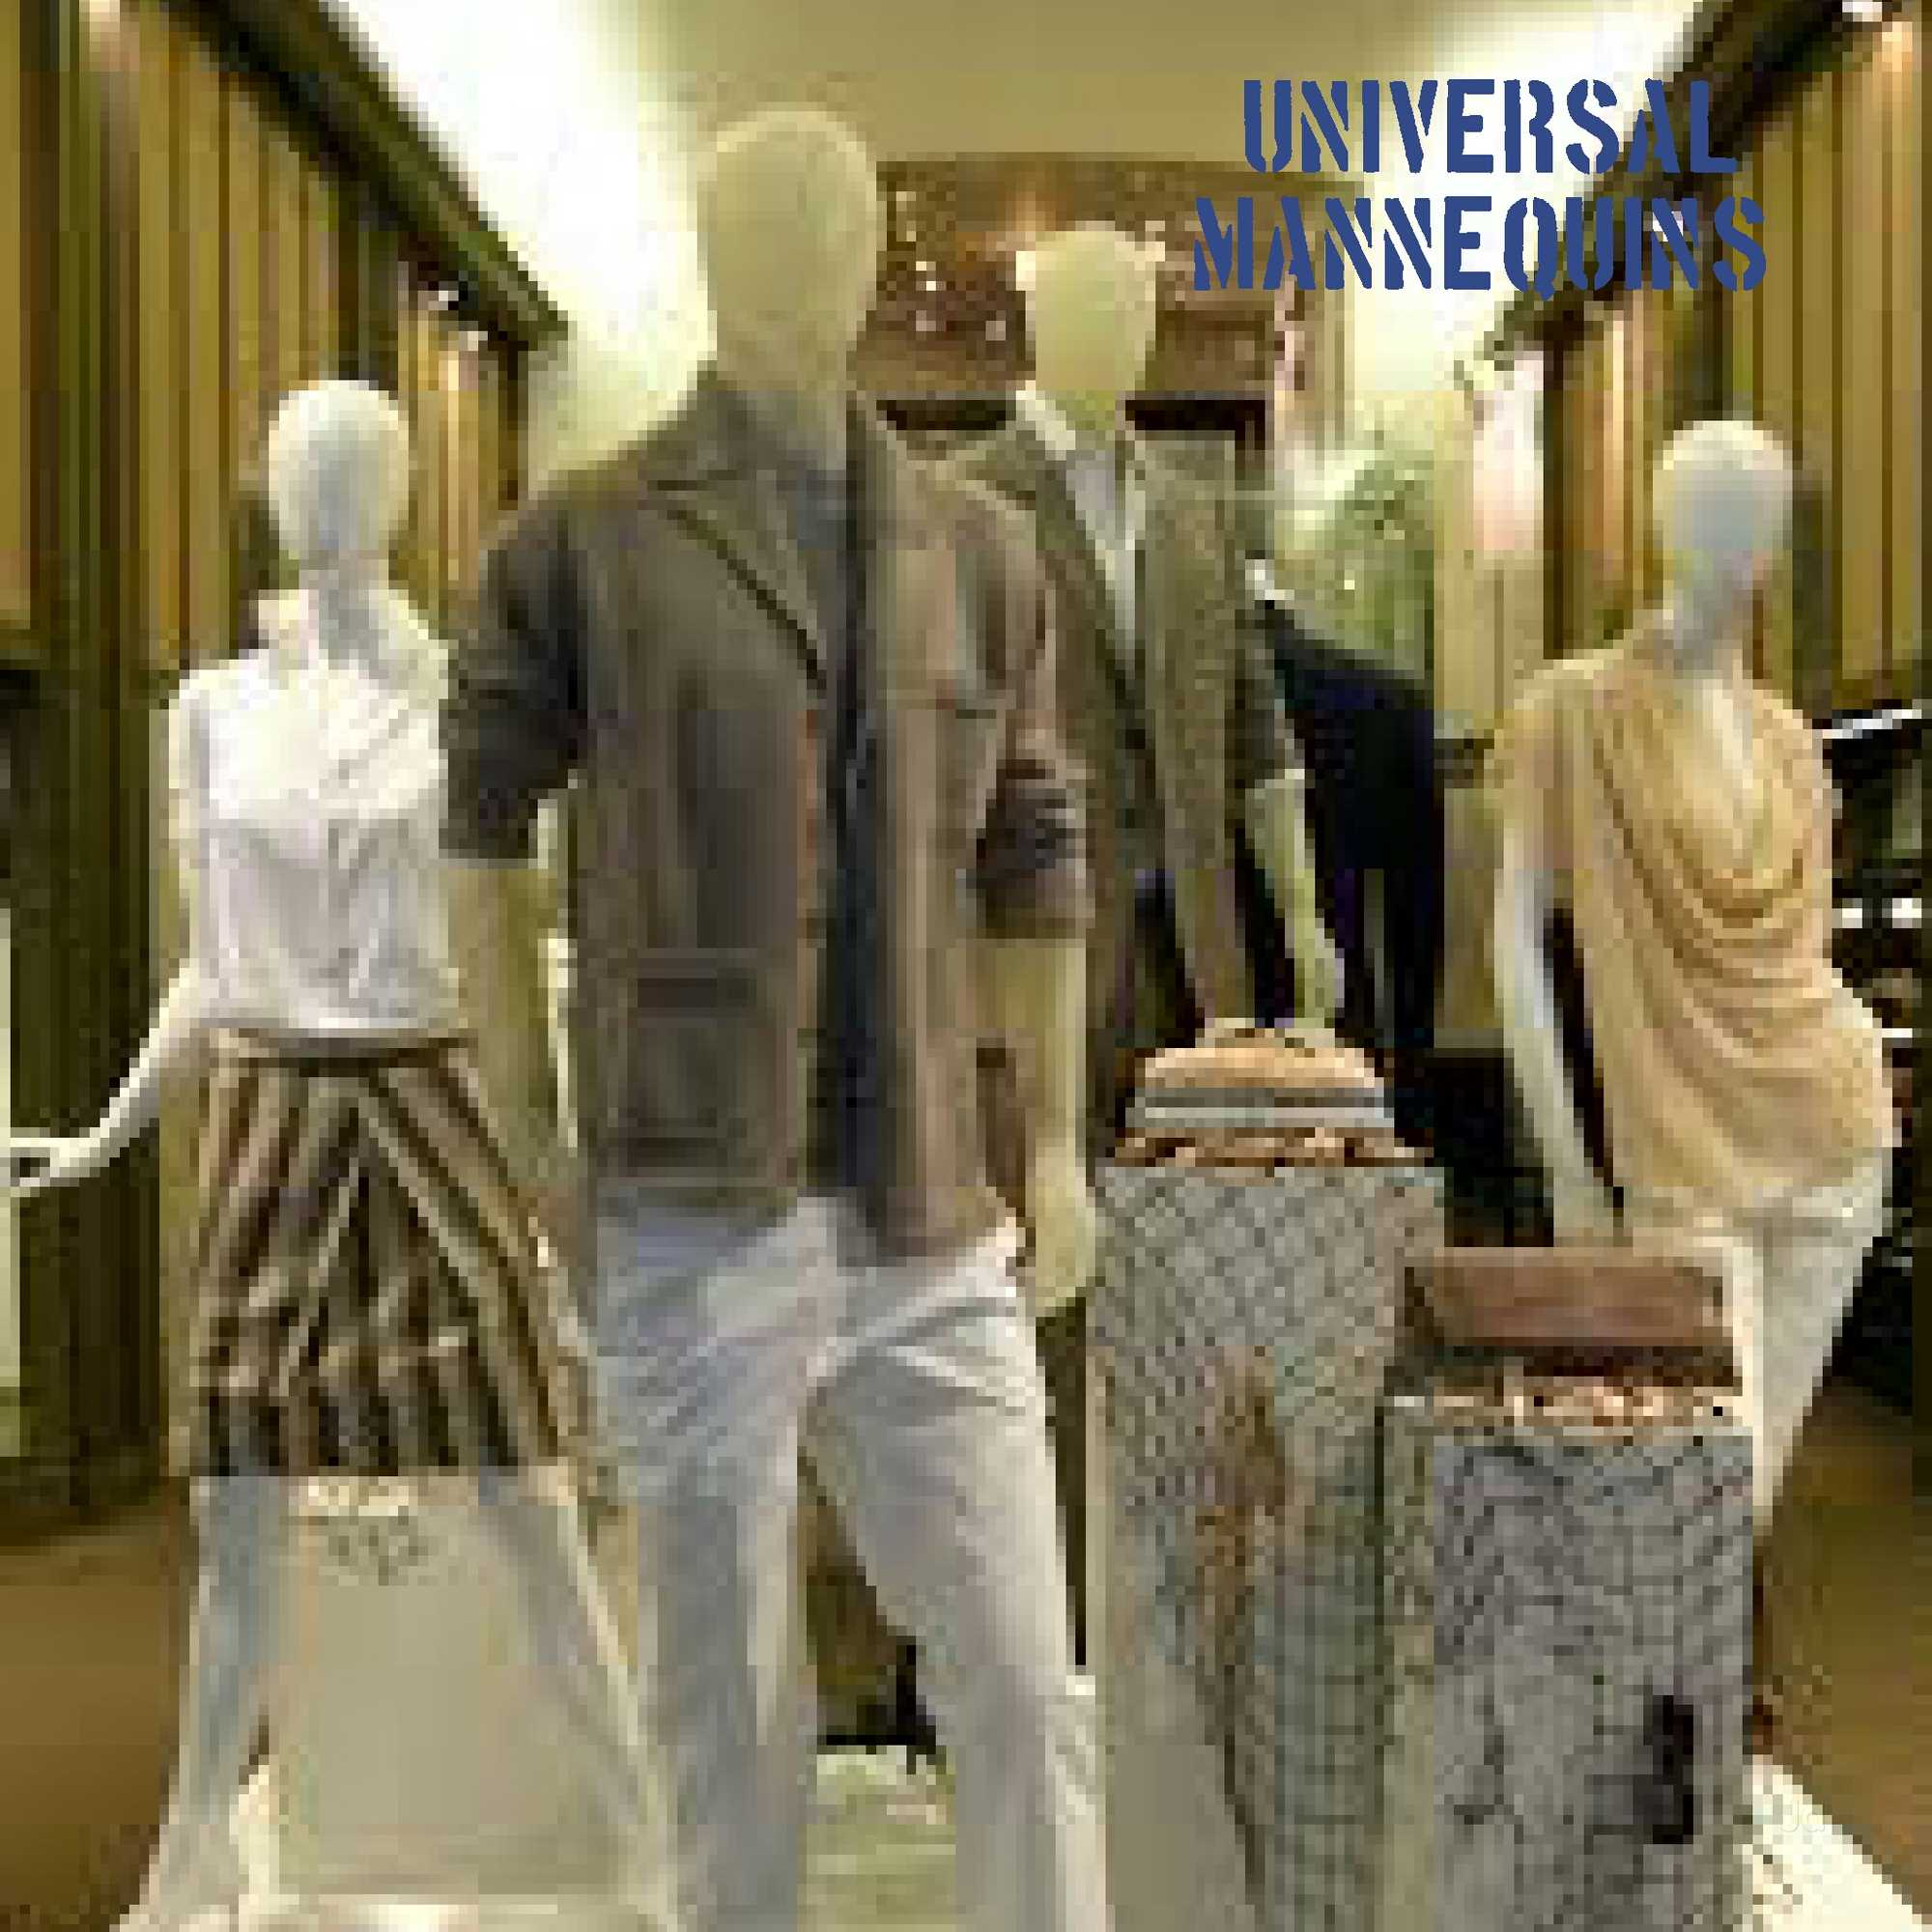person-like: (428, 89, 1109, 1932), (4, 359, 689, 1932), (1476, 395, 1877, 1538), (915, 193, 1352, 1132)
